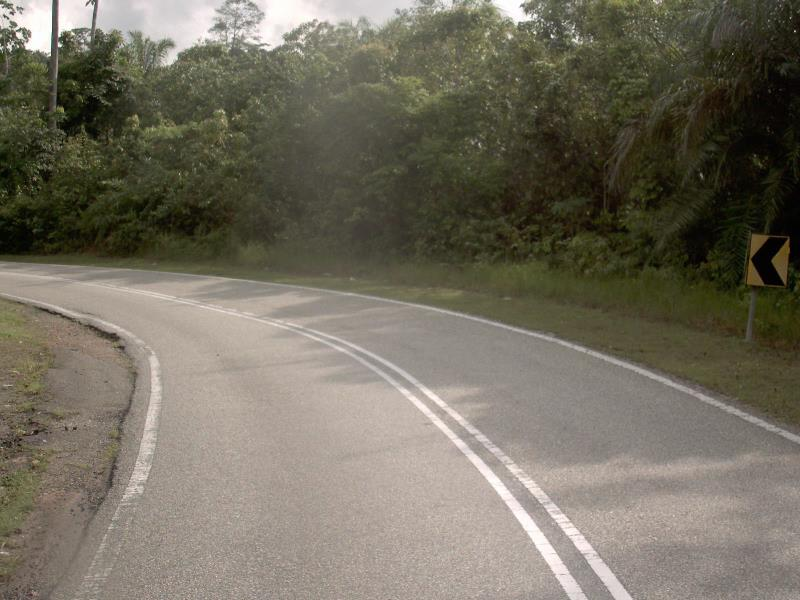traffic_sign: (735, 224, 799, 299)
